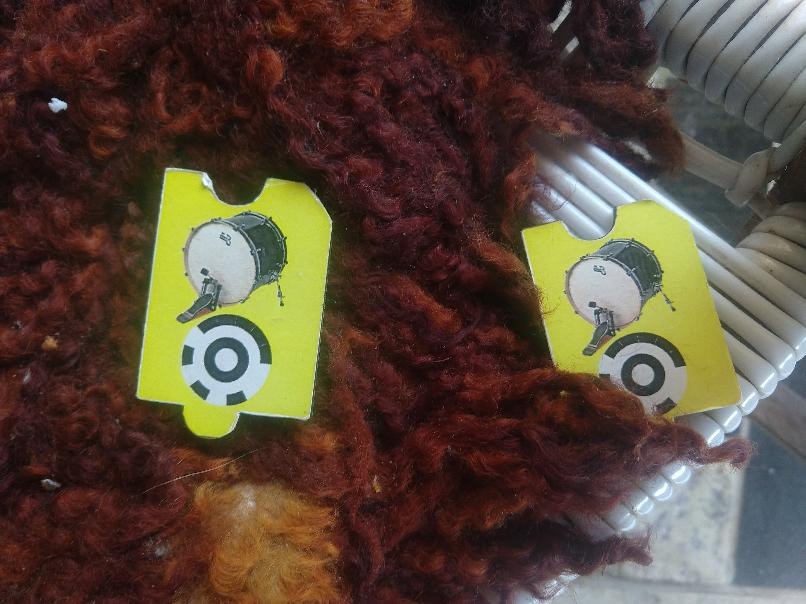bumbo: (517, 190, 741, 450), (130, 160, 334, 435)
